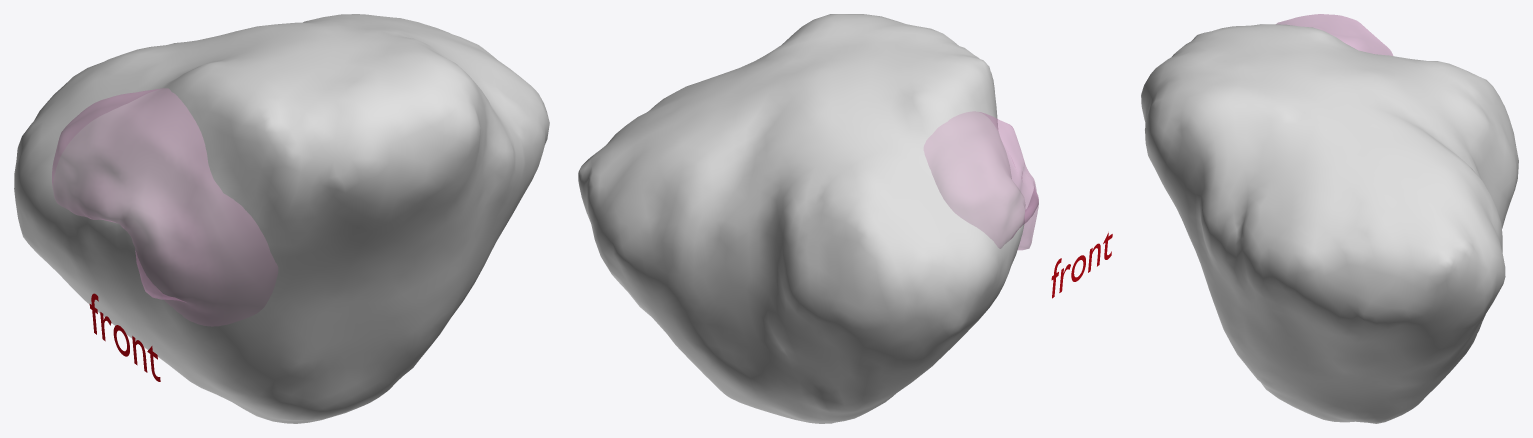
The model's file is sample_label_turnTable.glb.
3 views of the same model, side by side, from view 1: azimuth 30°, elevation 25°; view 2: azimuth 150°, elevation 25°; view 3: azimuth 270°, elevation 25° (orthographic). The views are drawn at different scales.
Parts seen in each view (by area): view 1: ProstateMRIPPMF17smoothed2Fixed, TumourSUV4, Text; view 2: ProstateMRIPPMF17smoothed2Fixed, TumourSUV4, Text; view 3: ProstateMRIPPMF17smoothed2Fixed, TumourSUV4.
Boxes of the visible parts, bbox=[...] form: ProstateMRIPPMF17smoothed2Fixed: bbox=[14, 14, 549, 423]; TumourSUV4: bbox=[52, 88, 277, 326]; Text: bbox=[89, 293, 160, 381]; ProstateMRIPPMF17smoothed2Fixed: bbox=[578, 14, 1025, 423]; TumourSUV4: bbox=[924, 111, 1038, 250]; Text: bbox=[1051, 232, 1112, 298]; ProstateMRIPPMF17smoothed2Fixed: bbox=[1141, 24, 1518, 423]; TumourSUV4: bbox=[1276, 14, 1393, 55].
Bounding box in the file's own units: 7.82 × 6.36 × 6.26.
